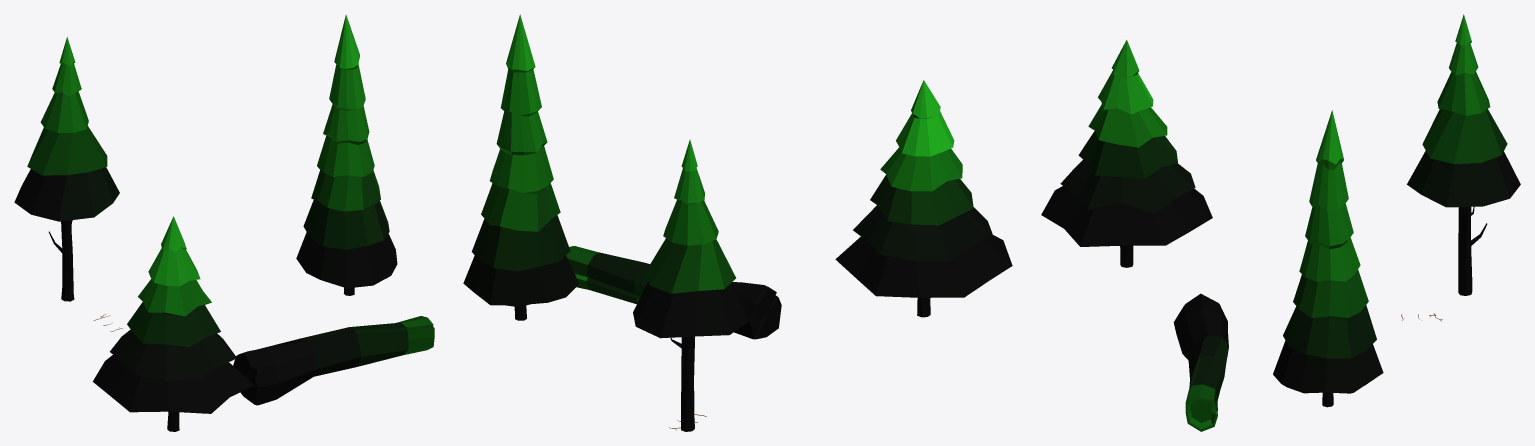
The model's file is tree3.fbx.
The picture shows the model from 3 angles, left to right: view 1: azimuth 30°, elevation 25°; view 2: azimuth 150°, elevation 25°; view 3: azimuth 270°, elevation 25°; orthographic projection. The views are drawn at different scales.
Visible parts, largest first — view 1: SM_Fir_02_Snow_96, SM_Fir_03_Snow_104, SM_Fir_01_Snow_88, SM_Treetrunk_02_Snow_369; view 2: SM_Fir_02_Snow_96, SM_Fir_03_Snow_104, SM_Fir_01_Snow_88, SM_Treetrunk_02_Snow_369; view 3: SM_Fir_02_Snow_96, SM_Fir_03_Snow_104, SM_Fir_01_Snow_88, SM_Treetrunk_02_Snow_369.
Part boxes in pixels (bbox=[...]): SM_Fir_02_Snow_96: bbox=[92, 216, 254, 431]; SM_Fir_03_Snow_104: bbox=[296, 14, 397, 295]; SM_Fir_01_Snow_88: bbox=[14, 37, 119, 301]; SM_Treetrunk_02_Snow_369: bbox=[233, 316, 434, 405]; SM_Fir_02_Snow_96: bbox=[835, 80, 1012, 317]; SM_Fir_03_Snow_104: bbox=[463, 14, 579, 320]; SM_Fir_01_Snow_88: bbox=[633, 139, 748, 431]; SM_Treetrunk_02_Snow_369: bbox=[566, 246, 781, 339]; SM_Fir_02_Snow_96: bbox=[1041, 40, 1212, 267]; SM_Fir_03_Snow_104: bbox=[1273, 110, 1383, 407]; SM_Fir_01_Snow_88: bbox=[1407, 14, 1520, 295]; SM_Treetrunk_02_Snow_369: bbox=[1173, 293, 1228, 431].
Size of what is drawn, in the model's own units: 2852 by 2156 by 2962.
